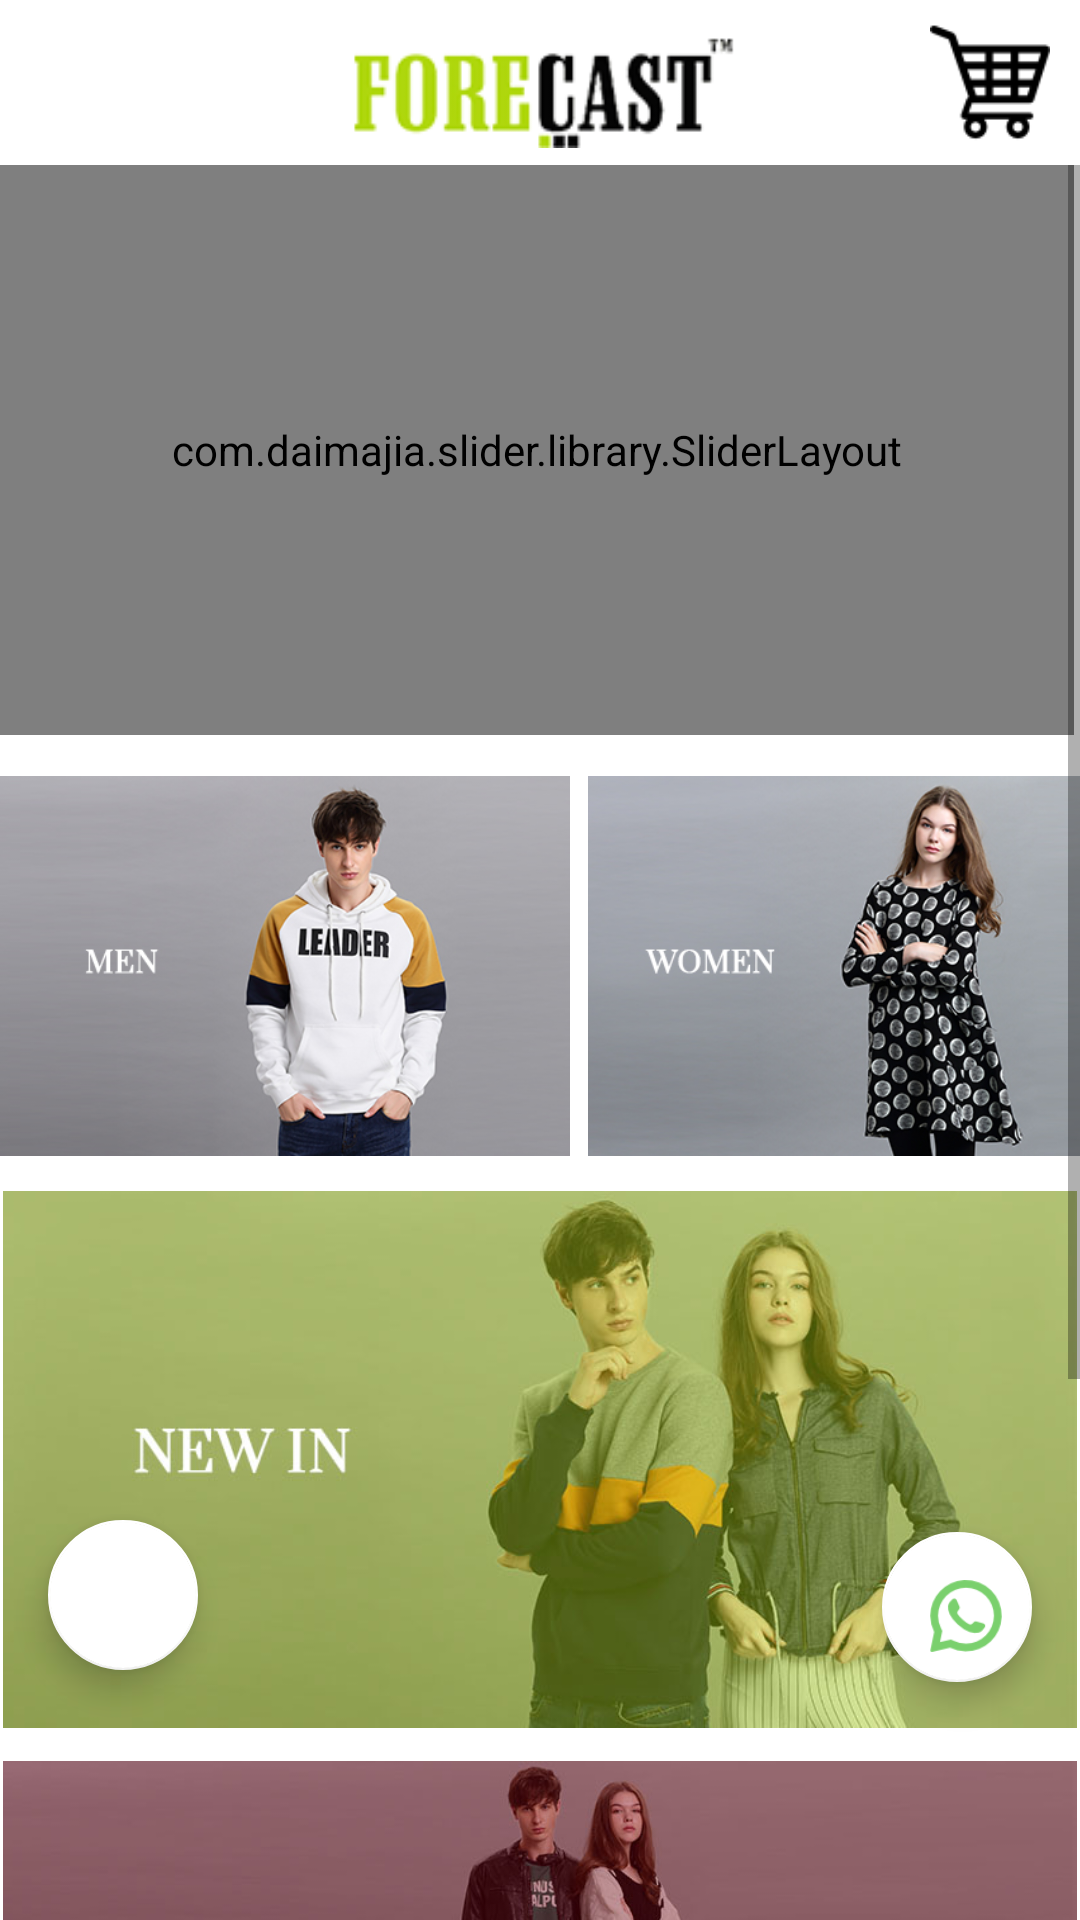

Screen size 1080x1920. Icon name, then its box in pixels as [left=x1, top=y1, right=x2, bottom=y2]:
caart: [left=930, top=25, right=1050, bottom=139]
